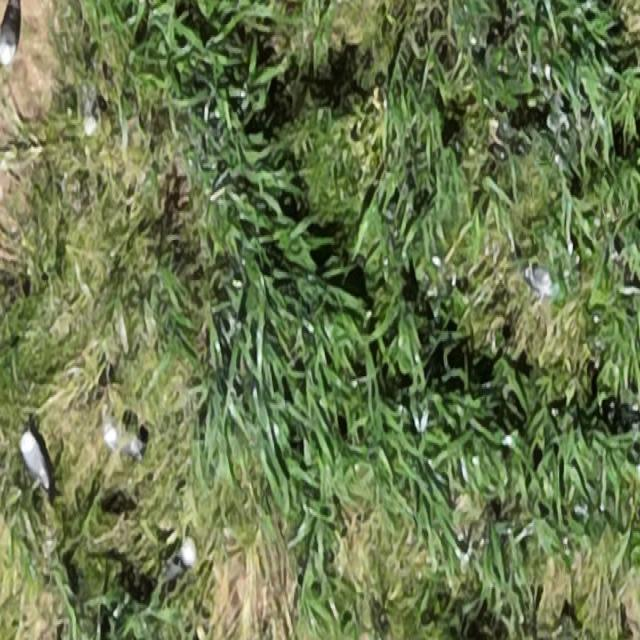umineko: (0, 0, 22, 63), (21, 434, 47, 483), (160, 539, 194, 576), (82, 82, 99, 140), (100, 400, 117, 445), (524, 265, 552, 292)
